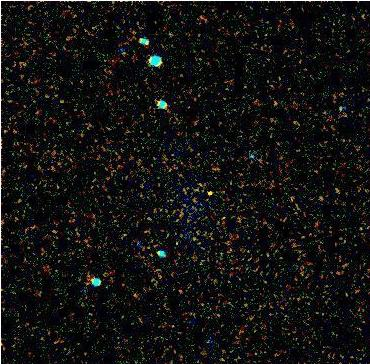star: (194, 178, 224, 208)
